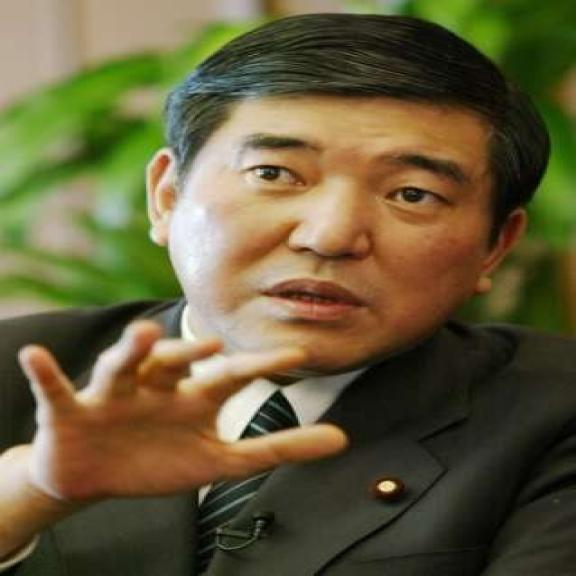face: (142, 84, 531, 384)
